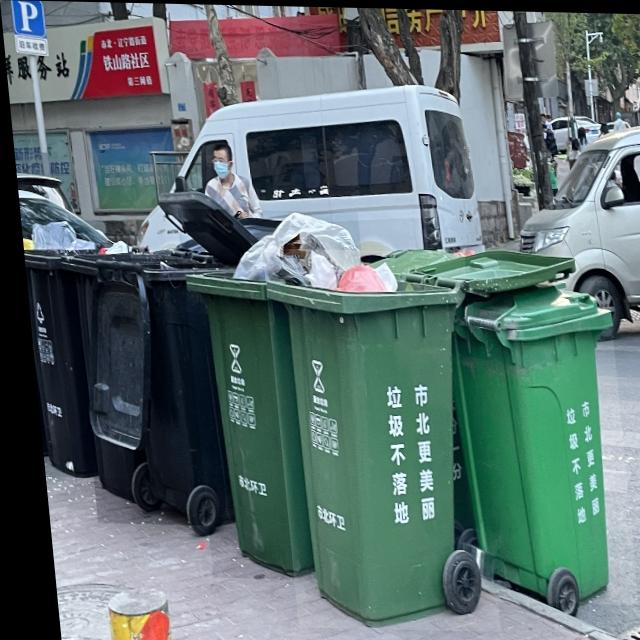garbage_bin: (439, 275, 627, 602), (67, 257, 224, 525)
overflow: (258, 247, 489, 630), (174, 208, 381, 580), (17, 219, 143, 479)
